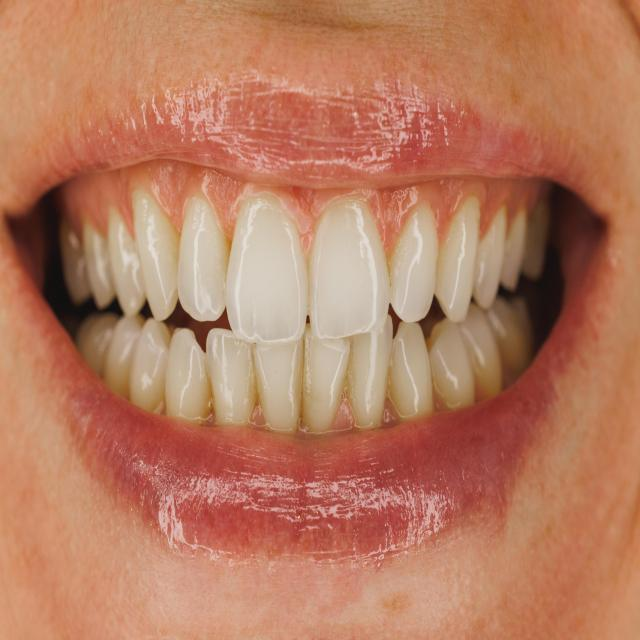tooth: (225, 196, 308, 344), (307, 200, 390, 340), (178, 193, 231, 322), (132, 190, 181, 321), (388, 201, 439, 323), (301, 323, 352, 436), (435, 197, 481, 322), (345, 314, 393, 429), (253, 332, 304, 430), (206, 327, 256, 426), (165, 327, 214, 424), (387, 321, 434, 422), (455, 302, 502, 398), (427, 317, 475, 409), (108, 205, 146, 317), (128, 317, 171, 412), (99, 314, 145, 399), (472, 205, 507, 310), (82, 218, 116, 308)
